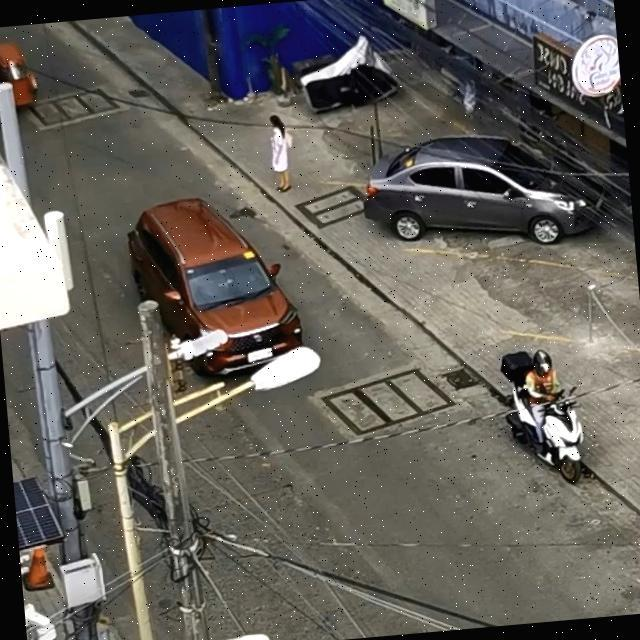Tricycle: (0, 24, 41, 129)
